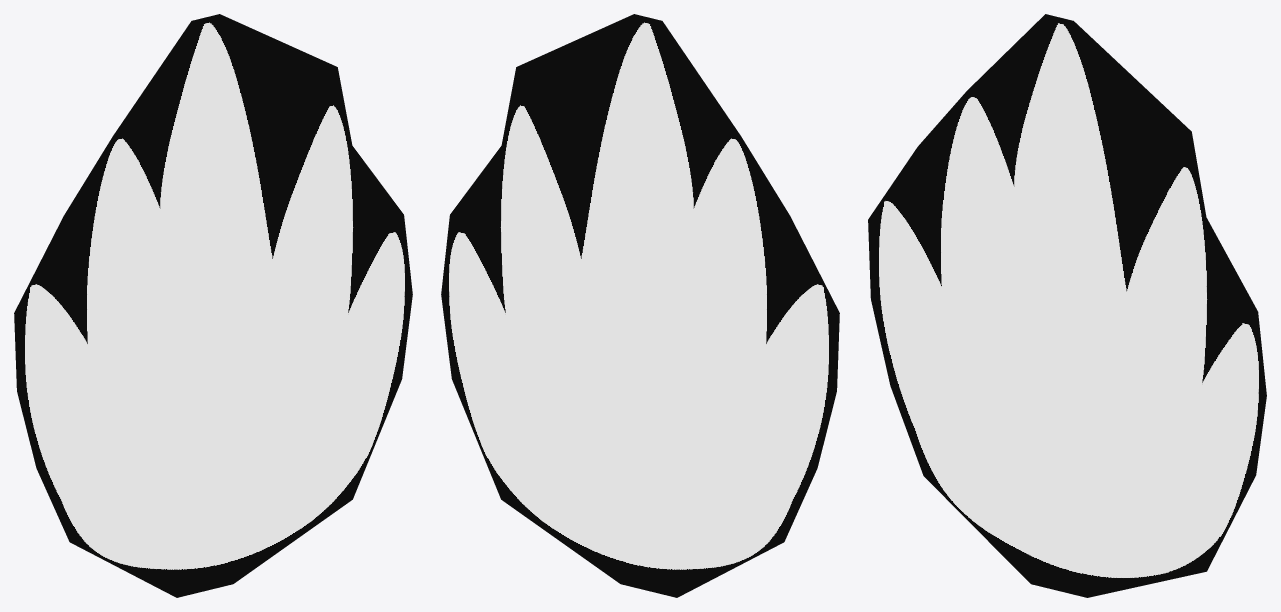
The model's file is grass_01.fbx.
3 views of the same model, side by side, from view 1: azimuth 30°, elevation 25°; view 2: azimuth 150°, elevation 25°; view 3: azimuth 330°, elevation 25° (orthographic).
Parts seen in each view (by area): view 1: Grass; view 2: Grass; view 3: Grass.
Part boxes in pixels (x1,y1,x2,y2): Grass: (14,14,412,597); Grass: (441,14,839,597); Grass: (868,14,1266,597).
Bounding box in the file's own units: 0.3527 × 0.4848 × 5.96e-08.
